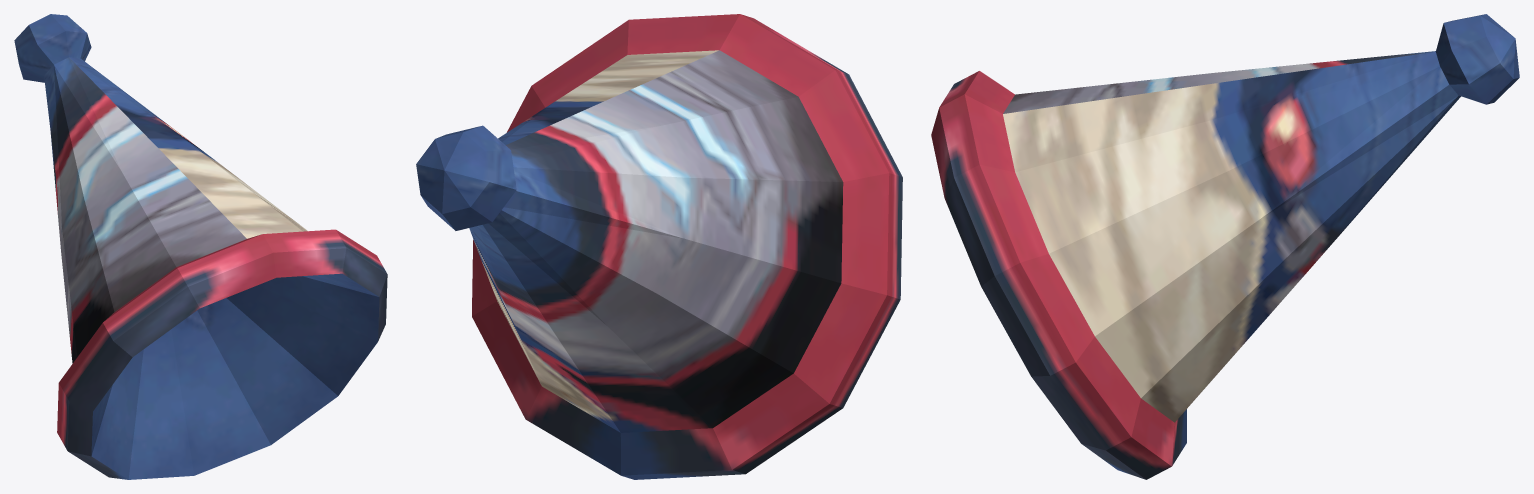
The model's file is Penguin_partyHat.obj.
The picture shows the model from 3 angles, left to right: view 1: azimuth 30°, elevation 25°; view 2: azimuth 150°, elevation 25°; view 3: azimuth 270°, elevation 25°; orthographic projection. The views are drawn at different scales.
Parts seen in each view (by area): view 1: Penguin_partyHat_tri; view 2: Penguin_partyHat_tri; view 3: Penguin_partyHat_tri.
Boxes of the visible parts, left/top/right/bottom form: Penguin_partyHat_tri: left=14, top=14, right=387, bottom=479; Penguin_partyHat_tri: left=416, top=14, right=902, bottom=479; Penguin_partyHat_tri: left=931, top=14, right=1519, bottom=479.
Bounding box in the file's own units: 0.3161 × 0.3459 × 0.4187.
1 material, 1 textured.
